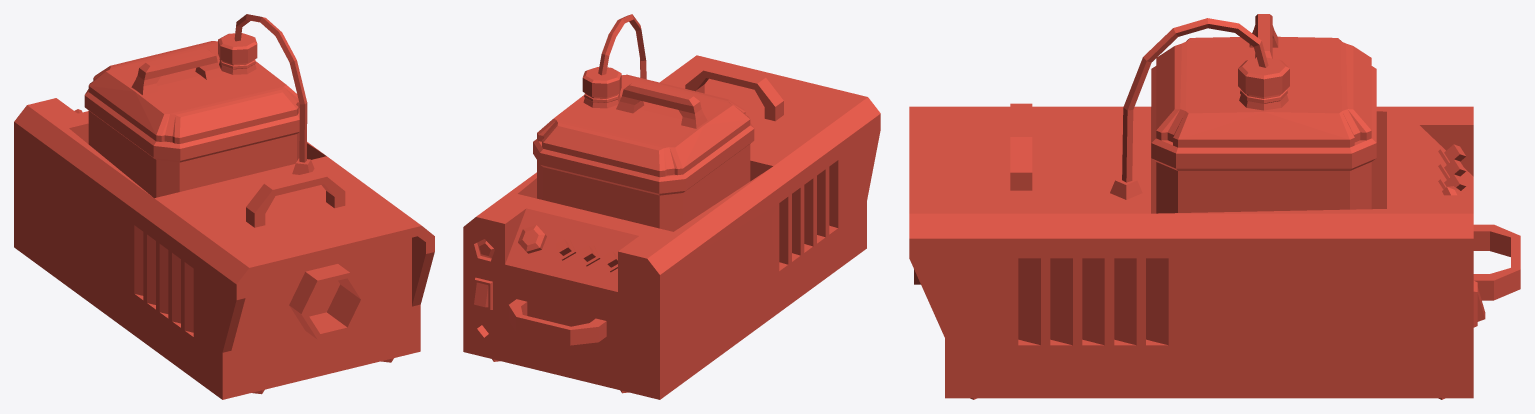
File: SM_Fog_Machine.fbx
The picture shows the model from 3 angles, left to right: view 1: azimuth 30°, elevation 25°; view 2: azimuth 150°, elevation 25°; view 3: azimuth 270°, elevation 25°; orthographic projection. The views are drawn at different scales.
Parts seen in each view (by area): view 1: SM_Fog_Machine; view 2: SM_Fog_Machine; view 3: SM_Fog_Machine.
Part boxes in pixels (<box>): SM_Fog_Machine: <box>14,14,434,399</box>; SM_Fog_Machine: <box>463,14,880,399</box>; SM_Fog_Machine: <box>909,14,1520,399</box>.
Bounding box in the file's own units: 70.89 × 33.69 × 45.5.
